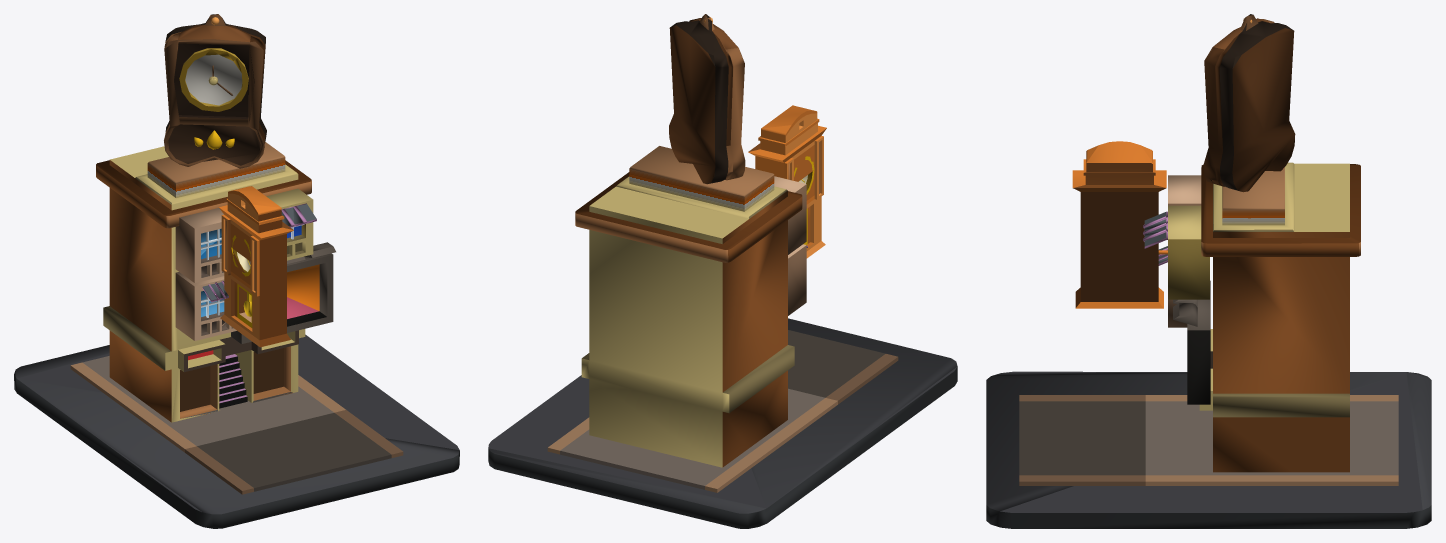
Rendered from Clocksmith_Building.glb.
3 renders of one model, left to right at view 1: azimuth 30°, elevation 25°; view 2: azimuth 150°, elevation 25°; view 3: azimuth 270°, elevation 25°, orthographic. The views are drawn at different scales.
Parts seen in each view (by area): view 1: clocksmith; view 2: clocksmith; view 3: clocksmith.
Part boxes in pixels (x1,y1,x2,y2): clocksmith: (14, 14, 459, 528); clocksmith: (488, 14, 957, 528); clocksmith: (986, 14, 1431, 528).
Size of the model in its own units: 3.3 by 4.82 by 4.4.
Materials: 1 (1 with a texture image).
